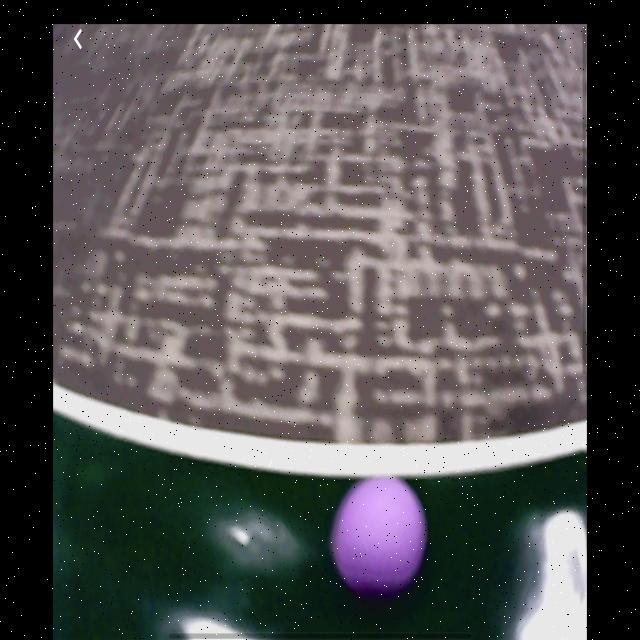ball: (331, 476, 429, 596)
